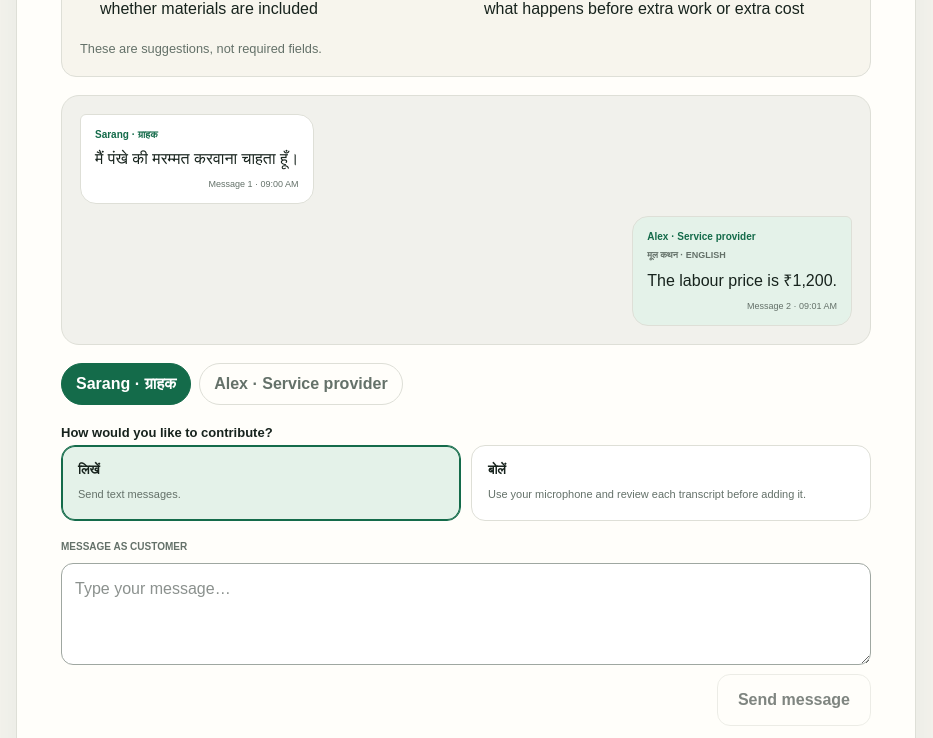
Scenario: LiveSessionExperience conversation-first flow › uses the selected participant language on a shared bilingual device
This screenshot has width=933, height=738.
(page scrolled)
Check: the text "मैं पंखे की मरम्मत करवाना चाहता हूँ।" is shown, box [95,147,298,172]
Check: the text "I want the fan repaired." is not shown
Click the button "Alex · Service provider": coordinates (301, 384) [199,363,403,405]
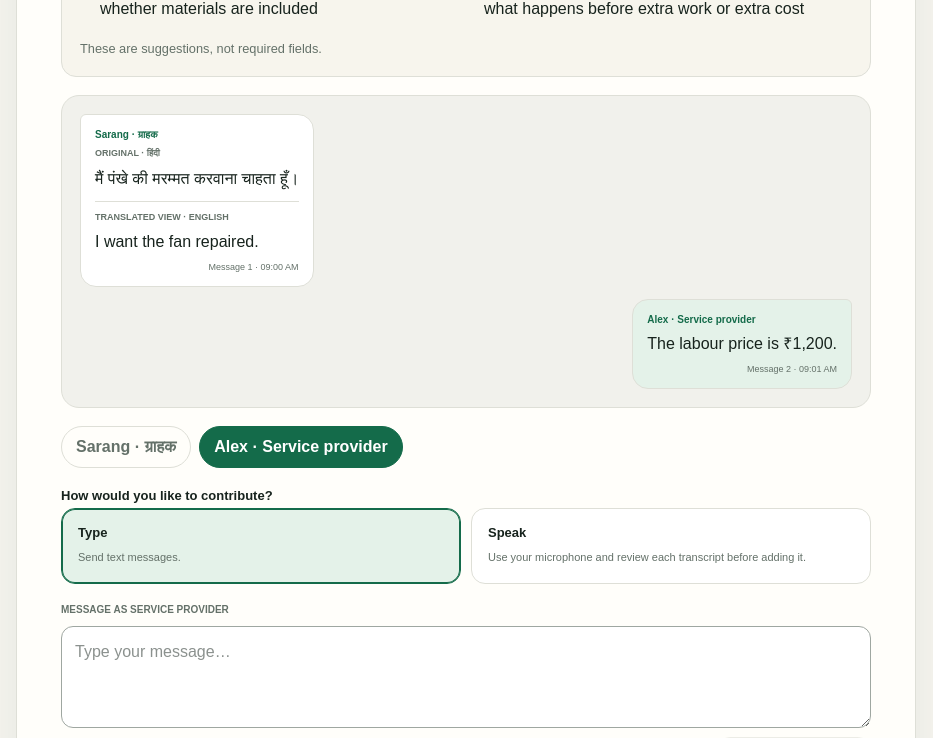
Check: the text "Translated view · English" is shown, box [95,212,229,222]
